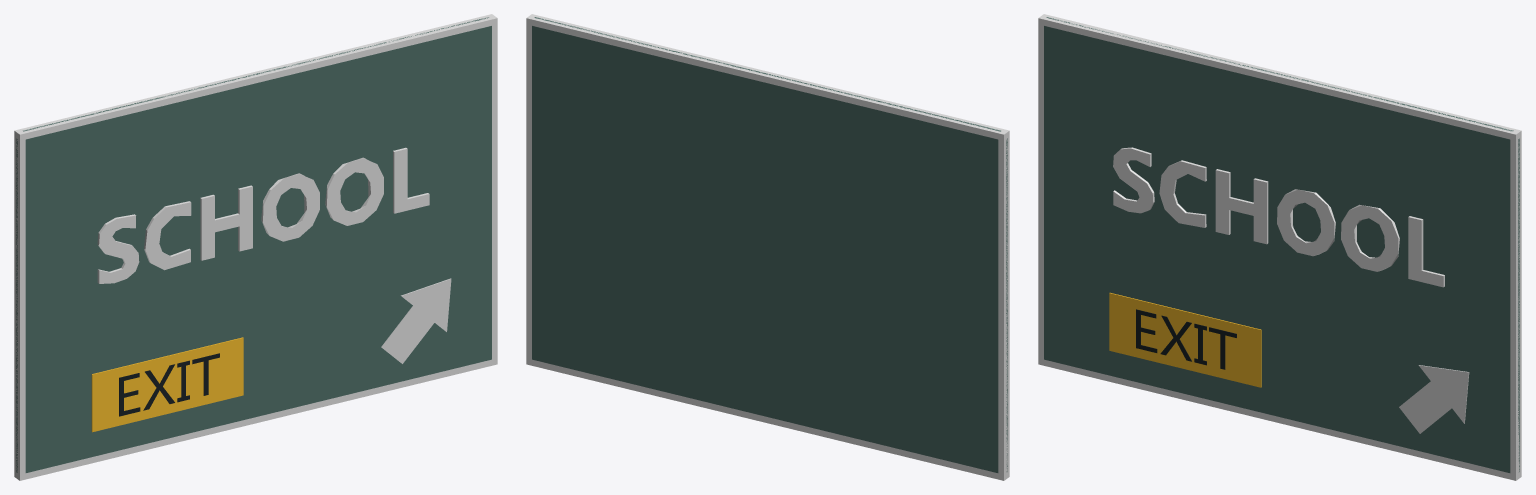
File: SM_FloorProps_RoadSign_31.fbx
3 renders of one model, left to right at view 1: azimuth 30°, elevation 25°; view 2: azimuth 150°, elevation 25°; view 3: azimuth 330°, elevation 25°, orthographic.
Parts seen in each view (by area): view 1: SM_FloorProps_RoadSign_31; view 2: SM_FloorProps_RoadSign_31; view 3: SM_FloorProps_RoadSign_31.
Boxes of the visible parts, x1=… form: SM_FloorProps_RoadSign_31: x1=14, y1=14, x2=497, y2=480; SM_FloorProps_RoadSign_31: x1=526, y1=14, x2=1009, y2=480; SM_FloorProps_RoadSign_31: x1=1038, y1=14, x2=1521, y2=480.
Size of the model in its own units: 2.33 by 1.61 by 0.0661.
